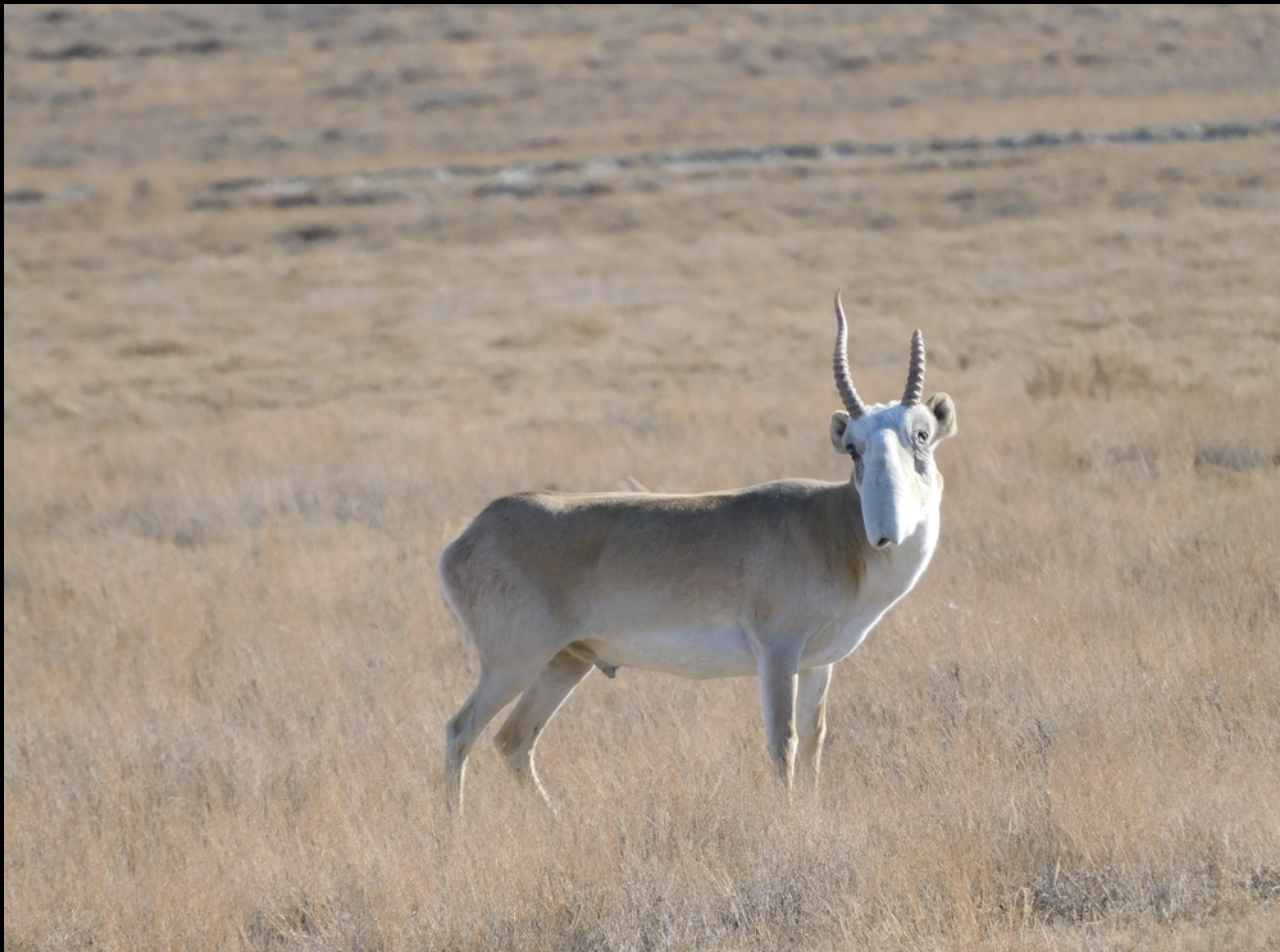saiga: (409, 249, 1010, 807)
